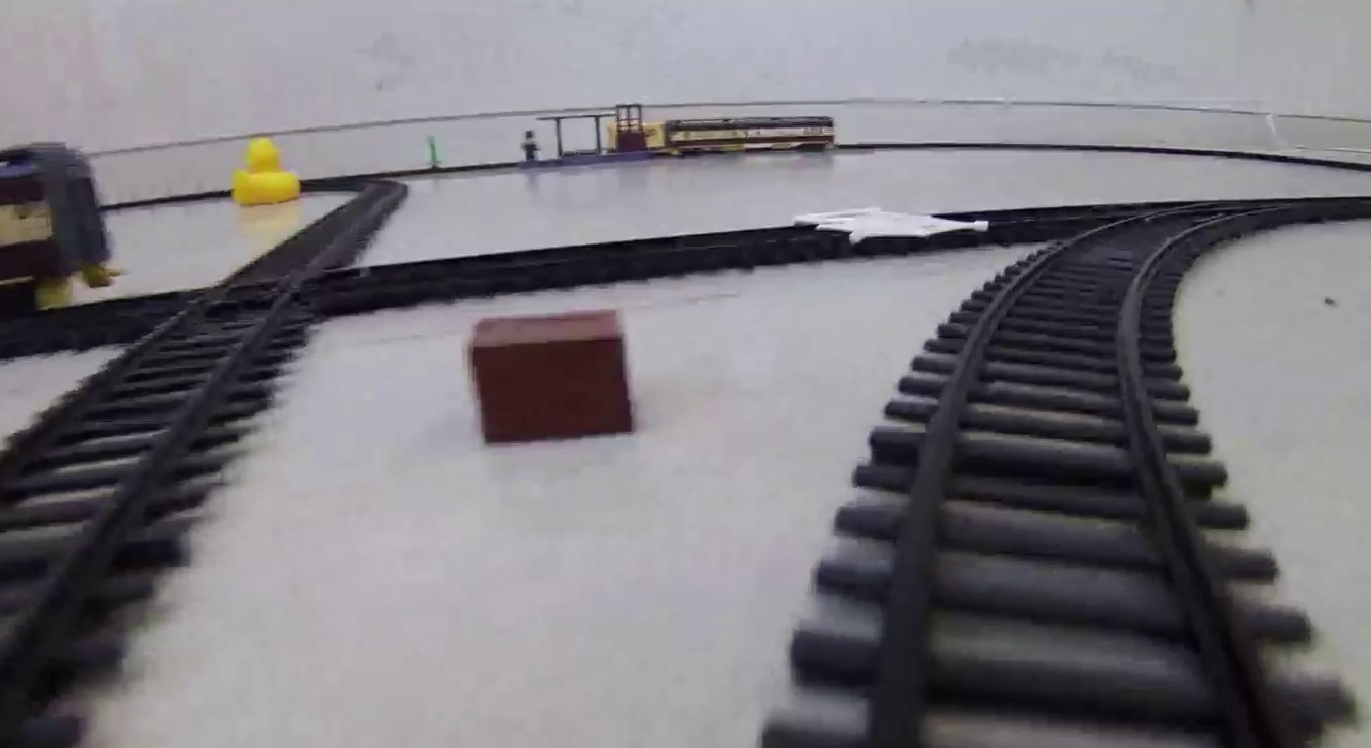box: (465, 311, 639, 447)
web: (797, 205, 992, 245)
